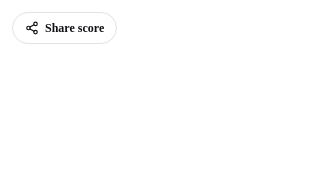
it: <GameShare /> › copies the link and says so
Click the button with aria-label "share the bills at chiefs score" at (65, 28), box top-left (12, 12), bottom-right (117, 44)
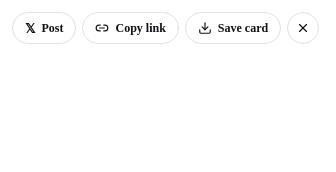
Click the button "Copy link" at (131, 28), box top-left (82, 12), bottom-right (179, 44)
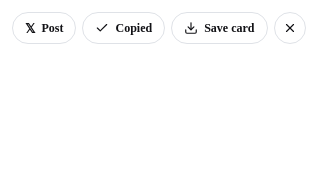
Result: the button "Copied" is shown at top-left (82, 12), bottom-right (165, 44)
